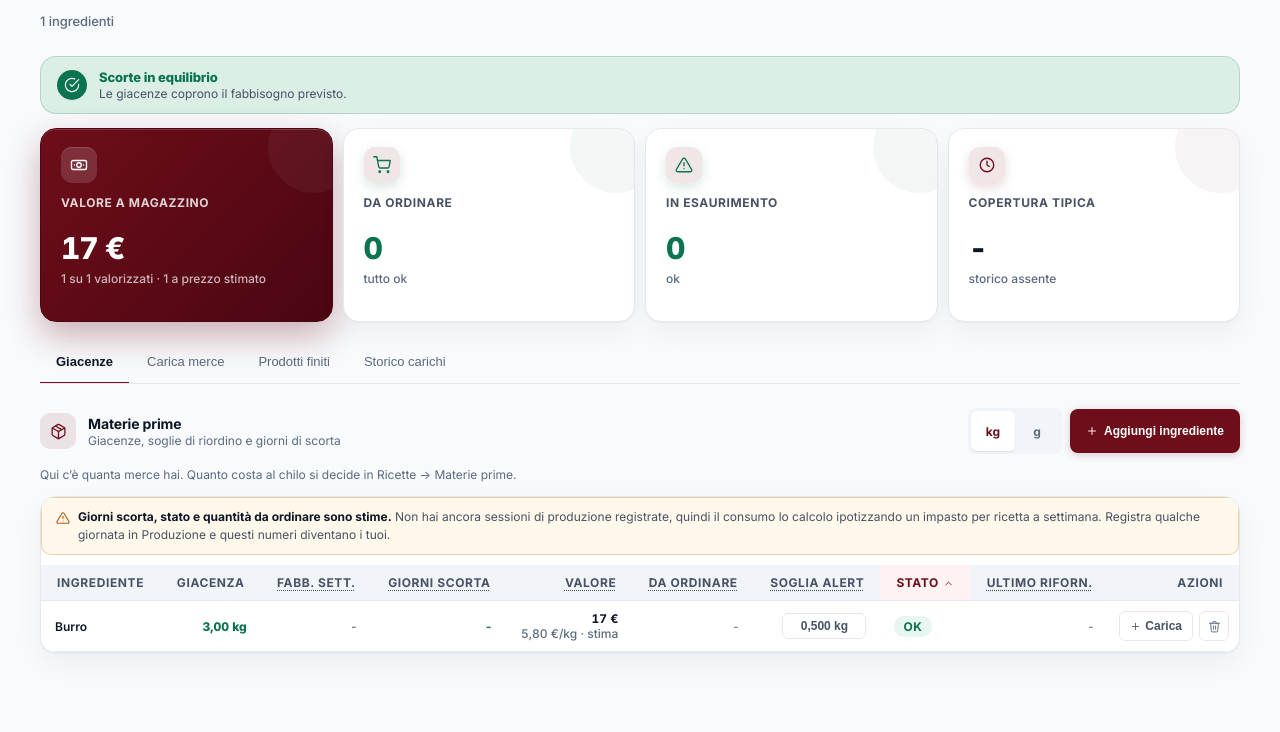
Test: soglia di riordino › il campo dichiara che sono grammi
Click the button "0,500 kg" at (824, 626), box [782,613,866,639]
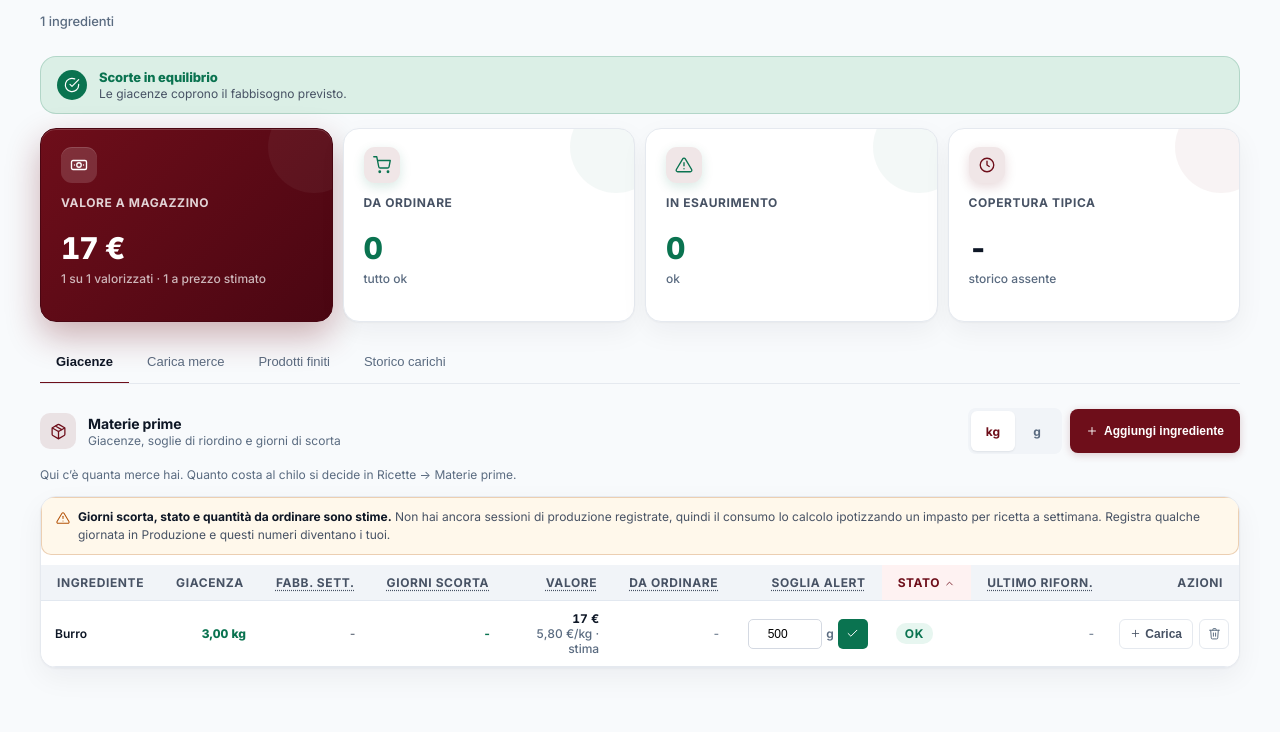
Expected: the element showing "g" is shown, [748,618,868,648]
Expected: the number field named "Soglia di riordino in grammi" is shown, [748,618,822,648]
